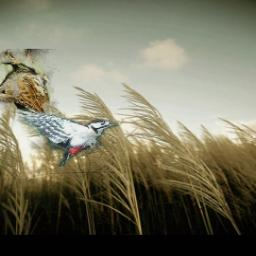Sparrow: (0, 49, 59, 145)
Woodpecker: (15, 108, 120, 167)
